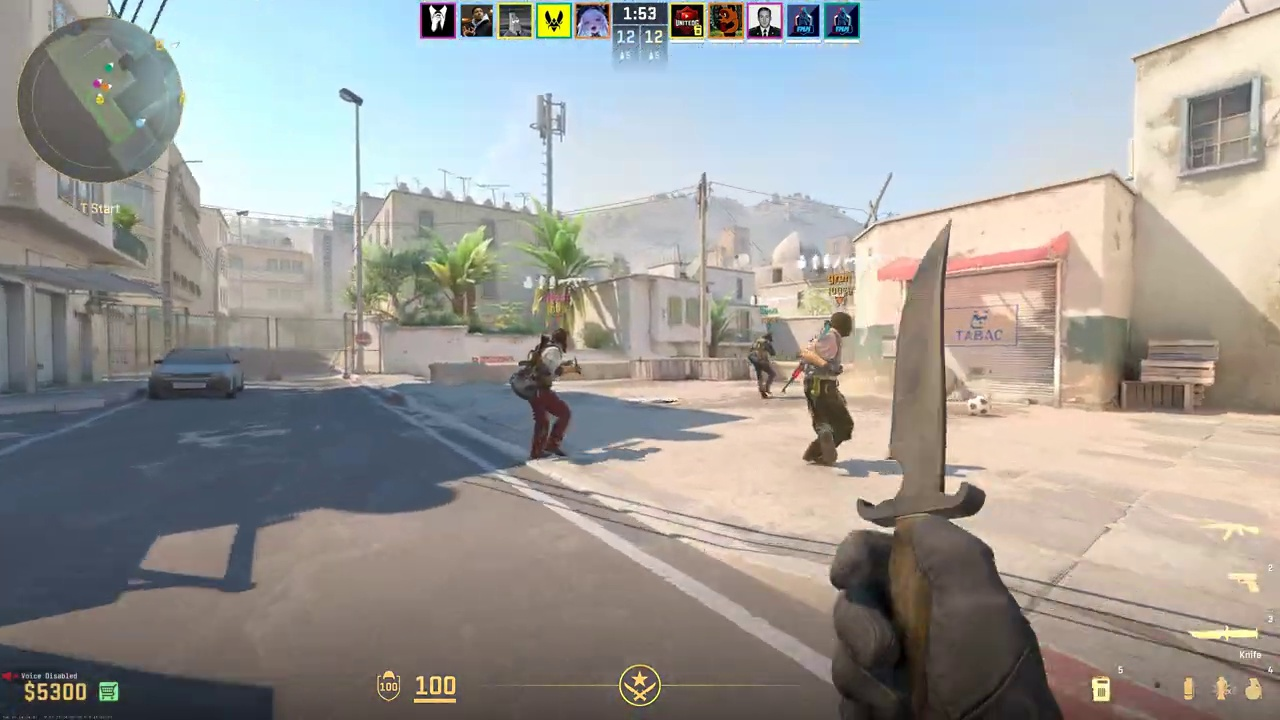Terrorist: (803, 312, 854, 464), (524, 330, 574, 459), (754, 332, 780, 399)
